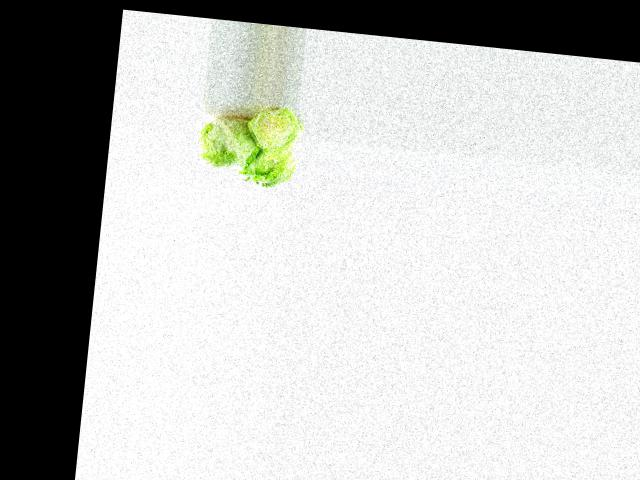lettuce: (234, 140, 299, 195)
